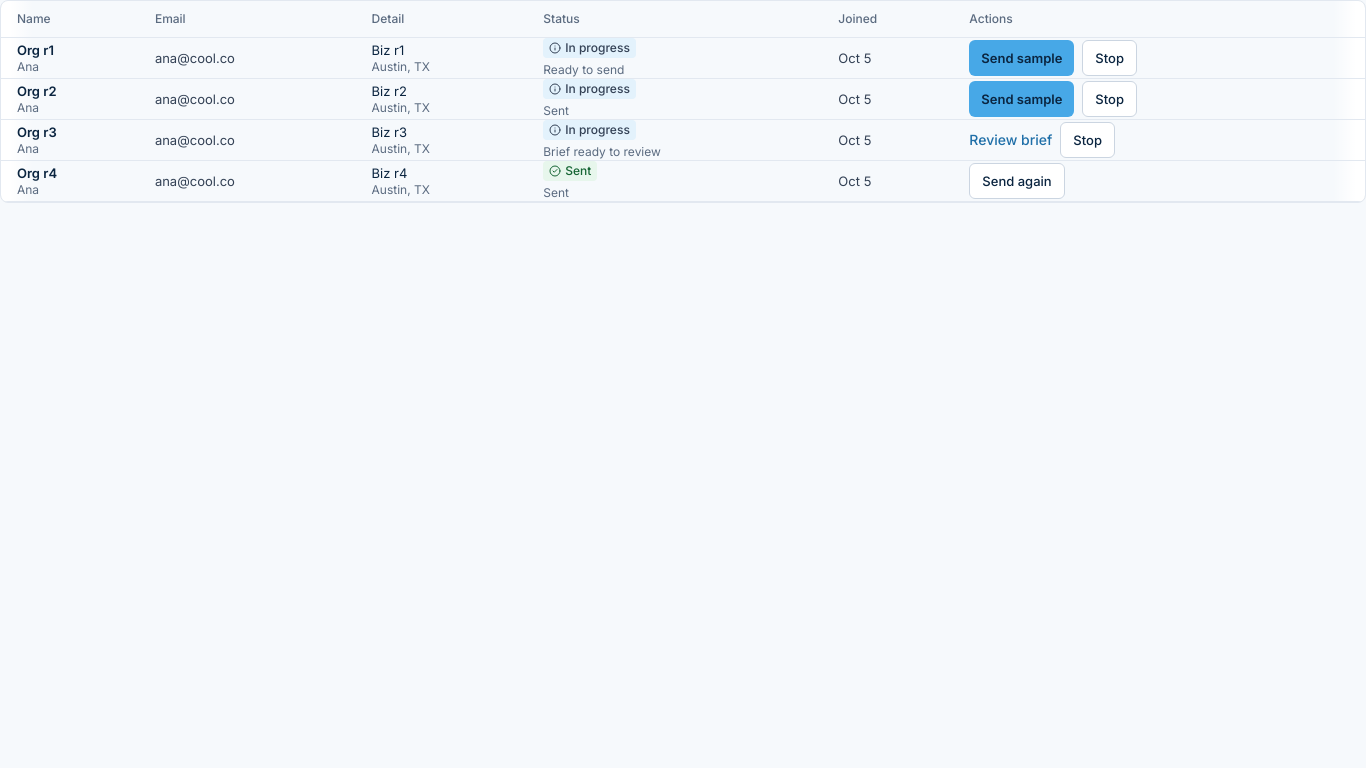
Test case: WaitlistTable samples › Send sample when ready to send (or already marked sent), Send again once sent; the link shows in the result line
Click the button "Send sample" in the row of "Org r1": coordinates (1022, 58) 969,40 -> 1074,76
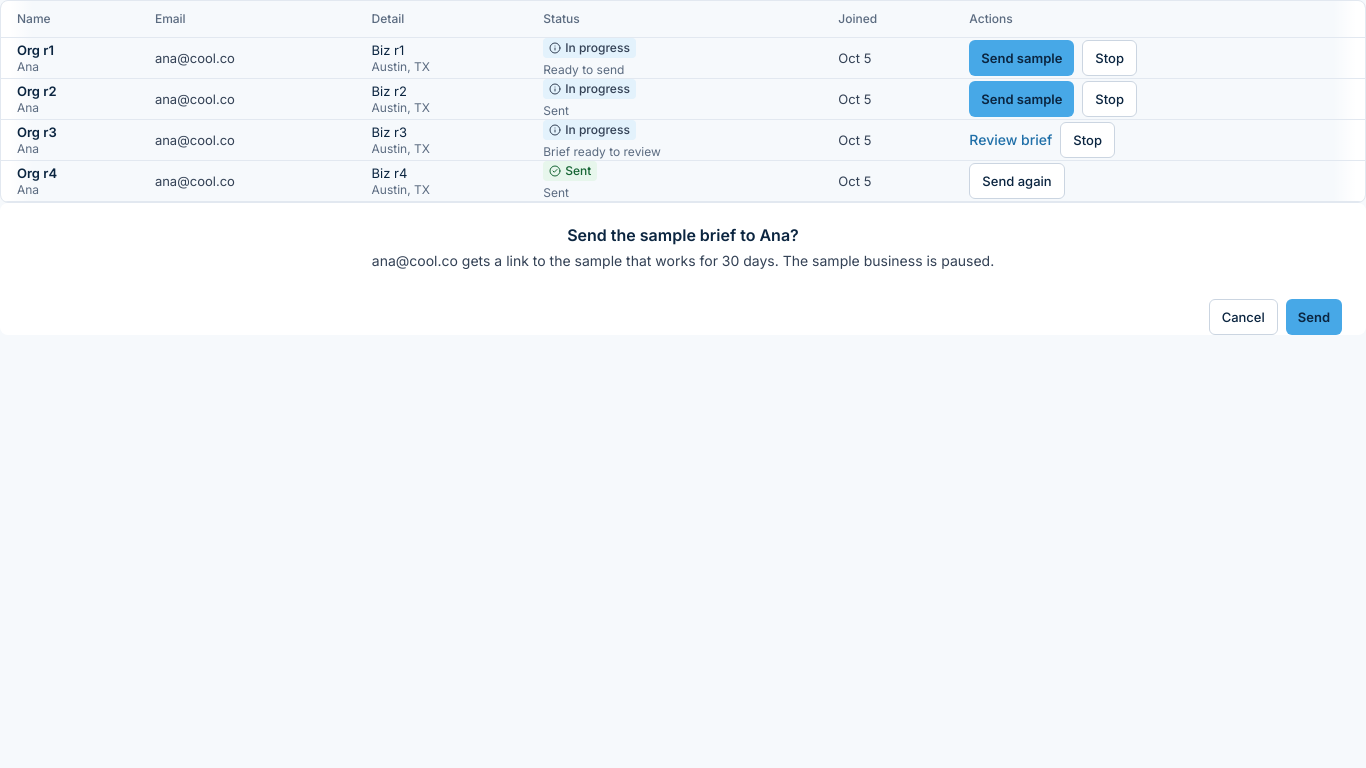
Click the button "Send": coordinates (1314, 316) 1286,298 -> 1342,334
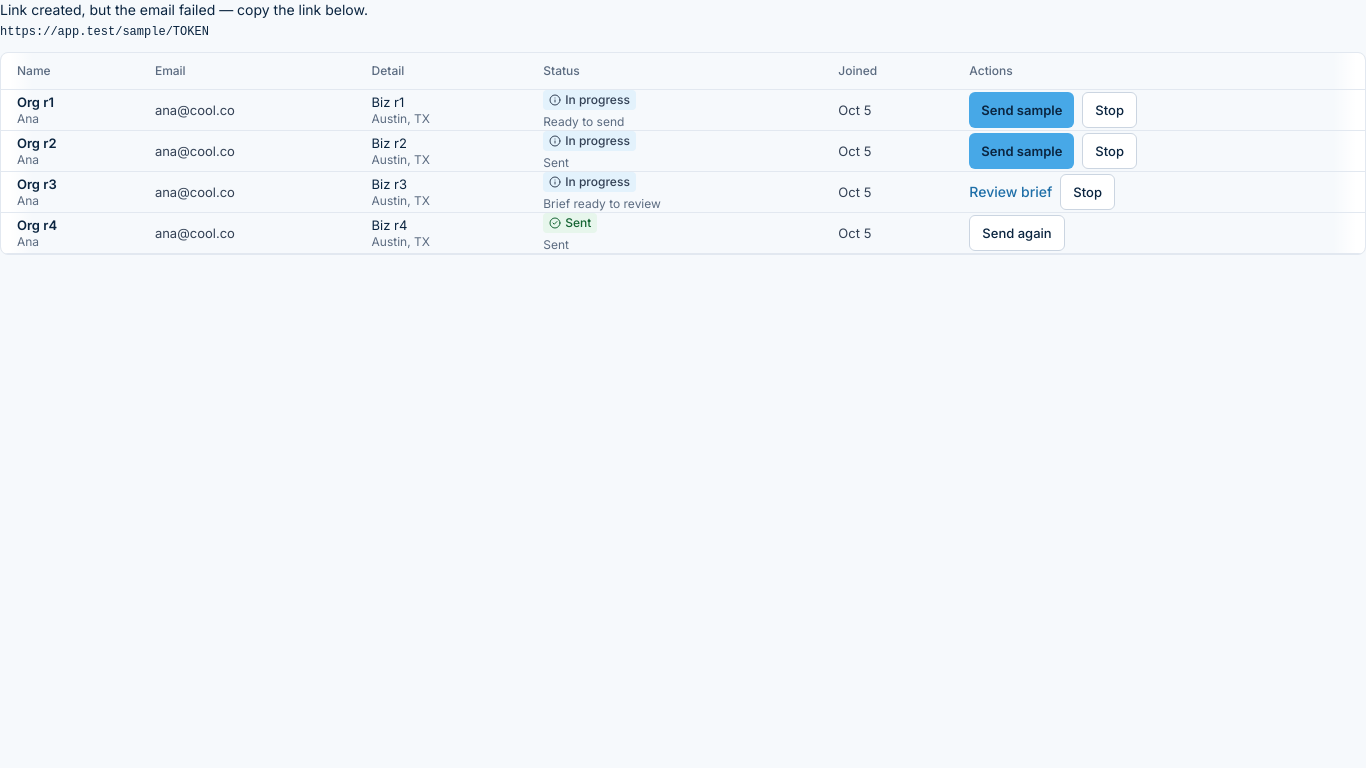
Expected: the text "Org r1" is shown, 17,94 -> 54,110
Now the text "Link created, but the email failed — copy the link below." is shown, box 0,1 -> 368,18
Now the text "https://app.test/sample/TOKEN" is shown, box 0,25 -> 209,39
